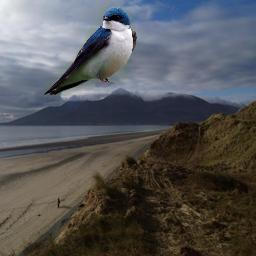Swallow: (43, 6, 137, 96)
